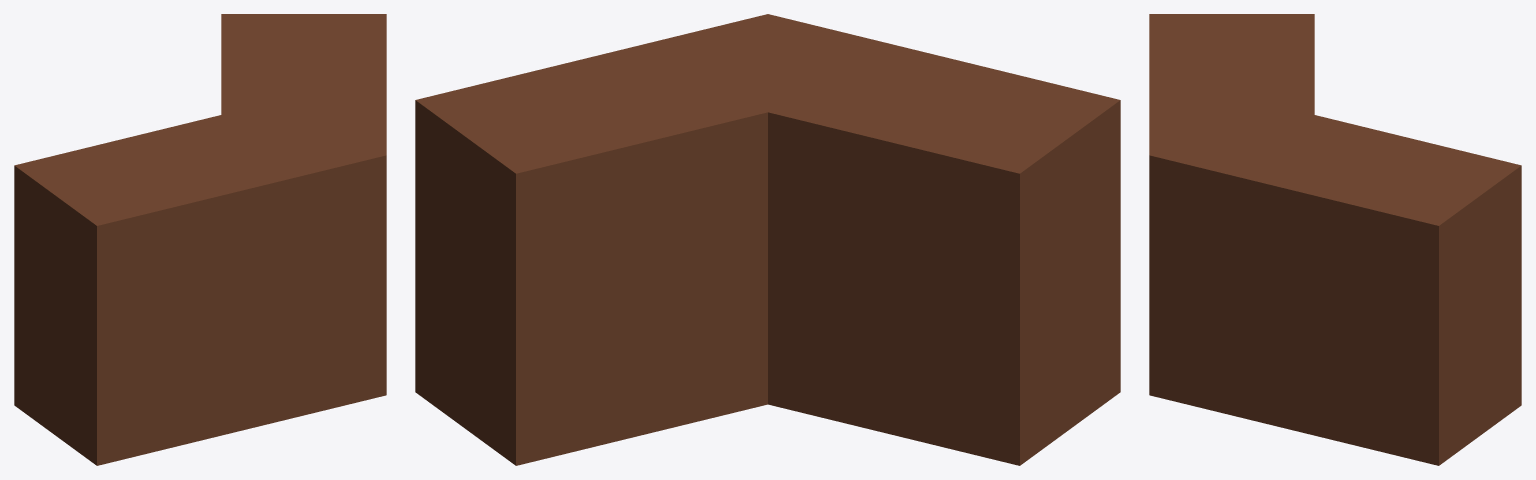
File: _wooden_wall_t_1.glb
The picture shows the model from 3 angles, left to right: view 1: azimuth 30°, elevation 25°; view 2: azimuth 150°, elevation 25°; view 3: azimuth 270°, elevation 25°; orthographic projection. The views are drawn at different scales.
Visible parts, largest first — view 1: WoodenWallHalfCurvedFillTall; view 2: WoodenWallHalfCurvedFillTall; view 3: WoodenWallHalfCurvedFillTall.
Boxes of the visible parts, left/top/right/bottom form: WoodenWallHalfCurvedFillTall: left=14, top=14, right=386, bottom=465; WoodenWallHalfCurvedFillTall: left=415, top=14, right=1120, bottom=465; WoodenWallHalfCurvedFillTall: left=1149, top=14, right=1521, bottom=465.
Bounding box in the file's own units: 1.52 × 0.8 × 1.12.
Materials: 1 (1 with a texture image).
